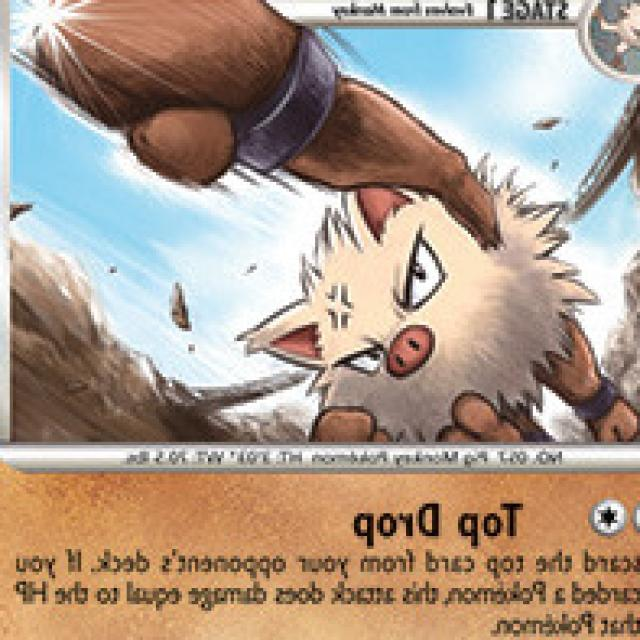Primeape: (248, 52, 590, 456)
